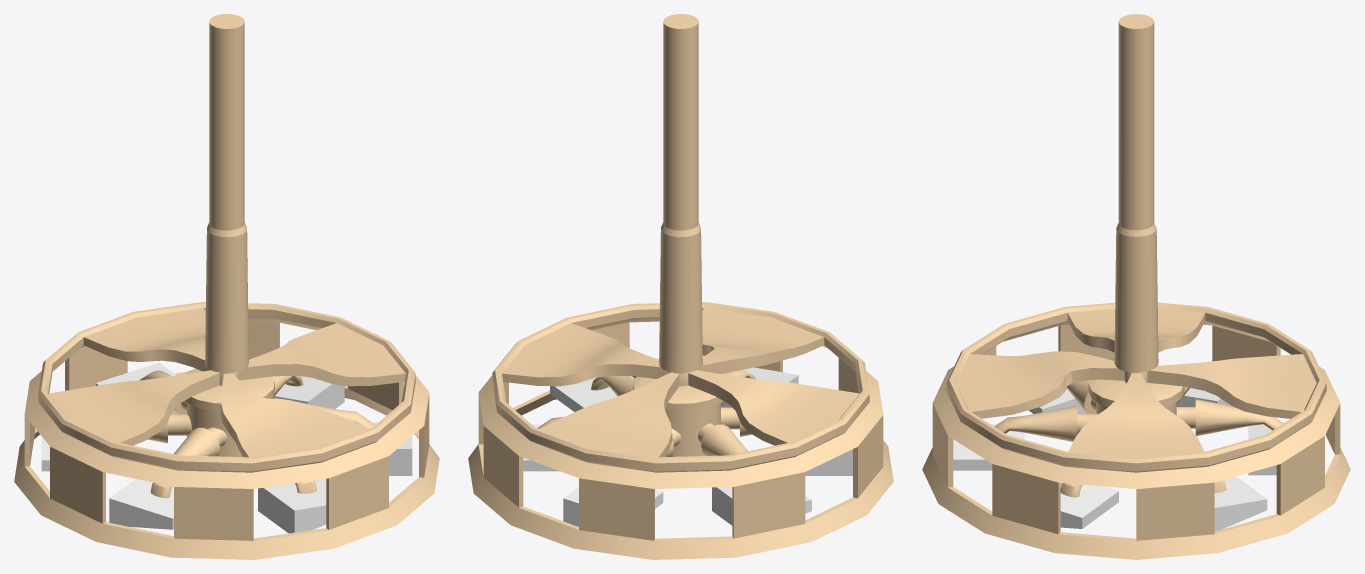
The model's file is fan14.glb.
3 renders of one model, left to right at view 1: azimuth 30°, elevation 25°; view 2: azimuth 150°, elevation 25°; view 3: azimuth 270°, elevation 25°, orthographic.
Parts seen in each view (by area): view 1: Fan14_Tris; view 2: Fan14_Tris; view 3: Fan14_Tris.
Boxes of the visible parts, left/top/right/bottom form: Fan14_Tris: left=14, top=14, right=439, bottom=559; Fan14_Tris: left=468, top=14, right=893, bottom=559; Fan14_Tris: left=922, top=14, right=1350, bottom=559.
Size of the model in its own units: 1.73 by 2 by 1.73.
